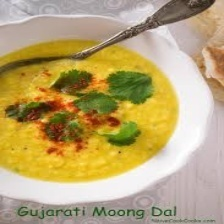dal: (1, 34, 188, 186)
